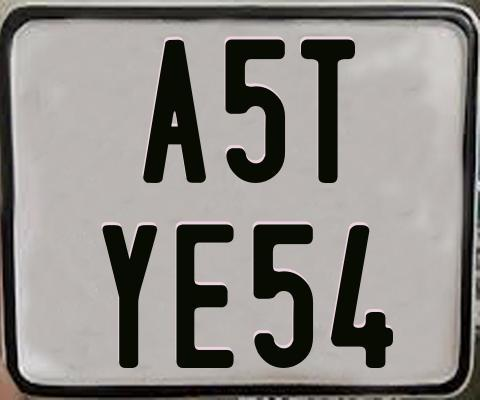4: (328, 222, 390, 370)
5: (225, 39, 291, 188), (250, 221, 312, 367)
A: (143, 37, 207, 186)
E: (175, 221, 235, 366)
T: (299, 37, 359, 187)
Y: (102, 224, 162, 367)
